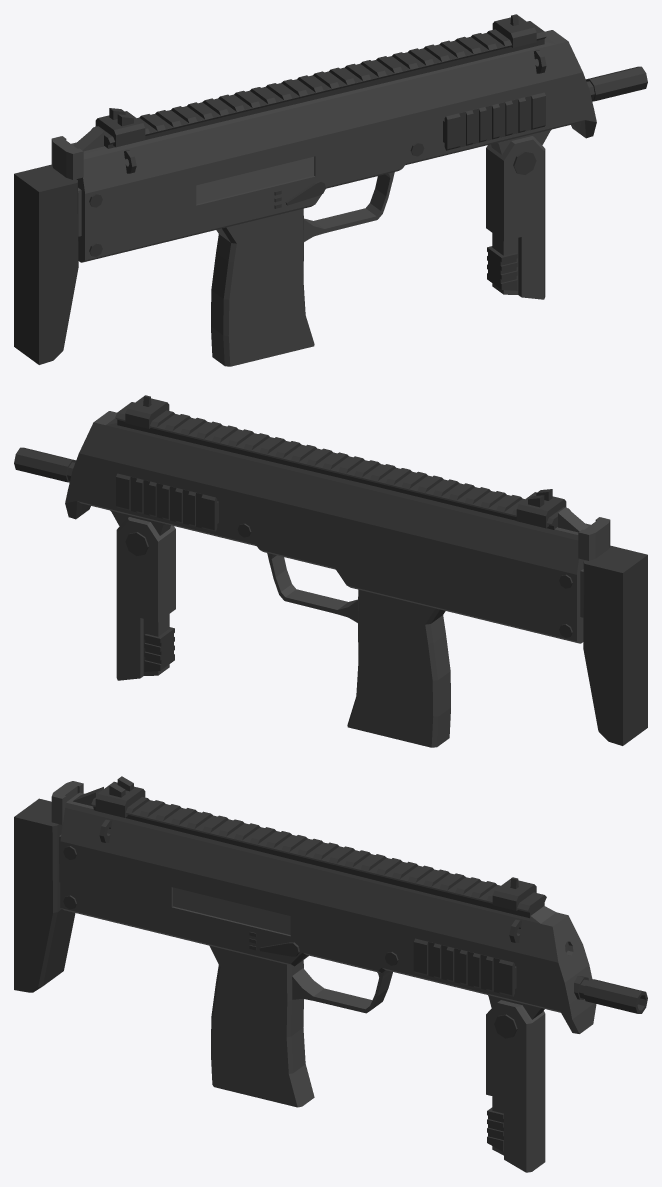
Rendered from SMG3_01.fbx.
3 views of the same model, one above another, from view 1: azimuth 30°, elevation 25°; view 2: azimuth 150°, elevation 25°; view 3: azimuth 330°, elevation 25° (orthographic).
Parts seen in each view (by area): view 1: SMG3_01; view 2: SMG3_01; view 3: SMG3_01.
Part boxes in pixels (<box>): SMG3_01: <box>14,14,647,366</box>; SMG3_01: <box>14,395,647,747</box>; SMG3_01: <box>14,776,647,1172</box>.
Size of the model in its own units: 0.4641 by 0.204 by 0.044.
